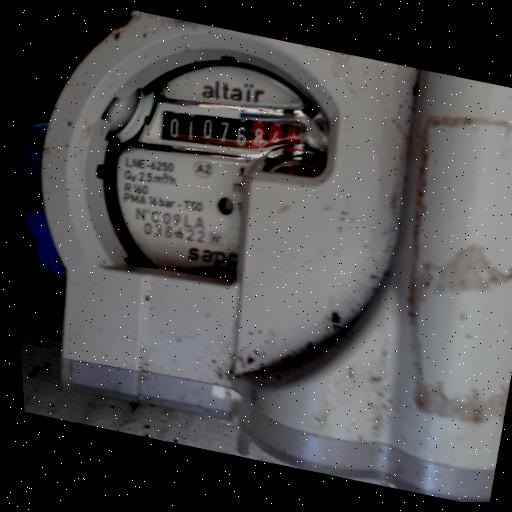0: (192, 111, 221, 146), (162, 108, 189, 143), (281, 121, 303, 145)
1: (177, 110, 204, 145)
4: (262, 119, 289, 150)
6: (227, 116, 255, 150)
7: (210, 114, 238, 148)
8: (246, 117, 271, 151)
border_water_meter_number: (147, 81, 316, 180)
